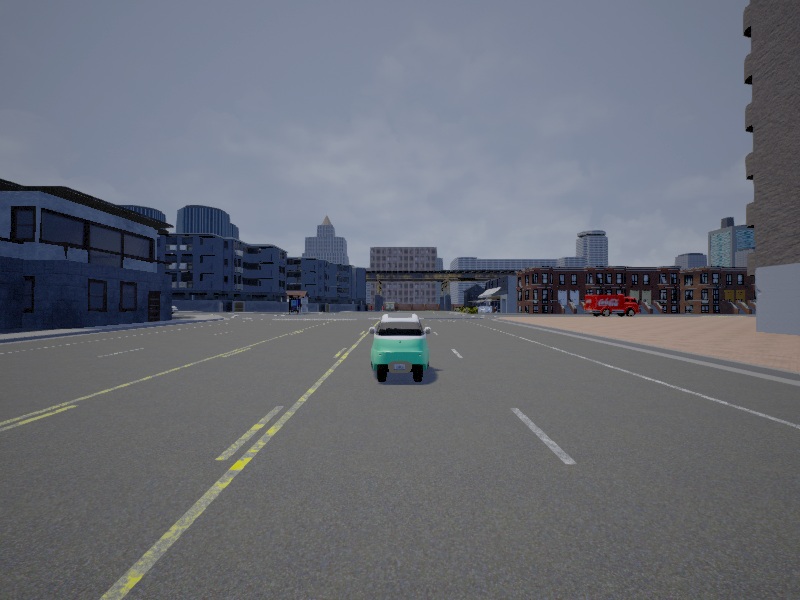Benign: (371, 313, 431, 382), (585, 294, 640, 318)
